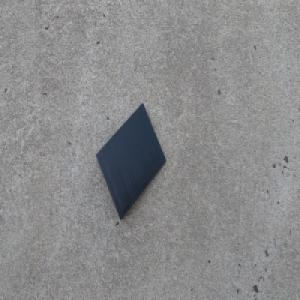PlasticPart: (94, 100, 167, 221)
